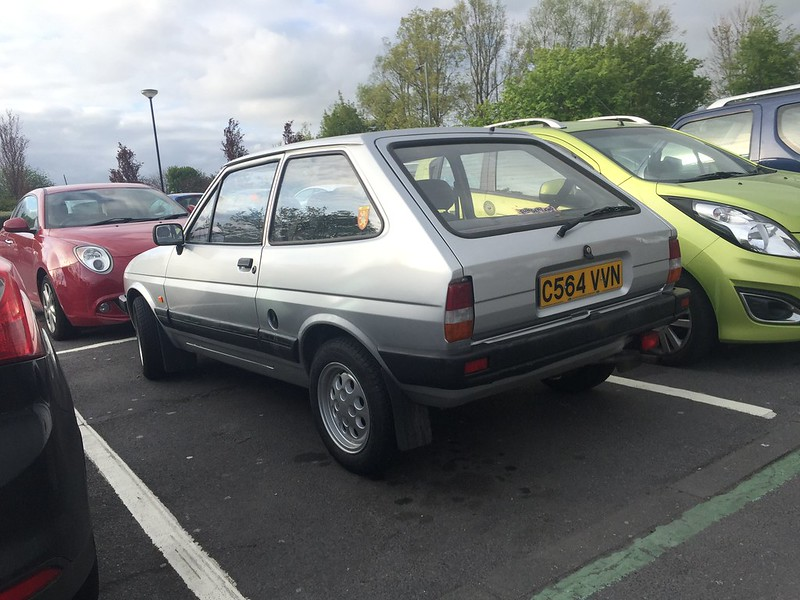number_plate: (518, 258, 657, 305)
